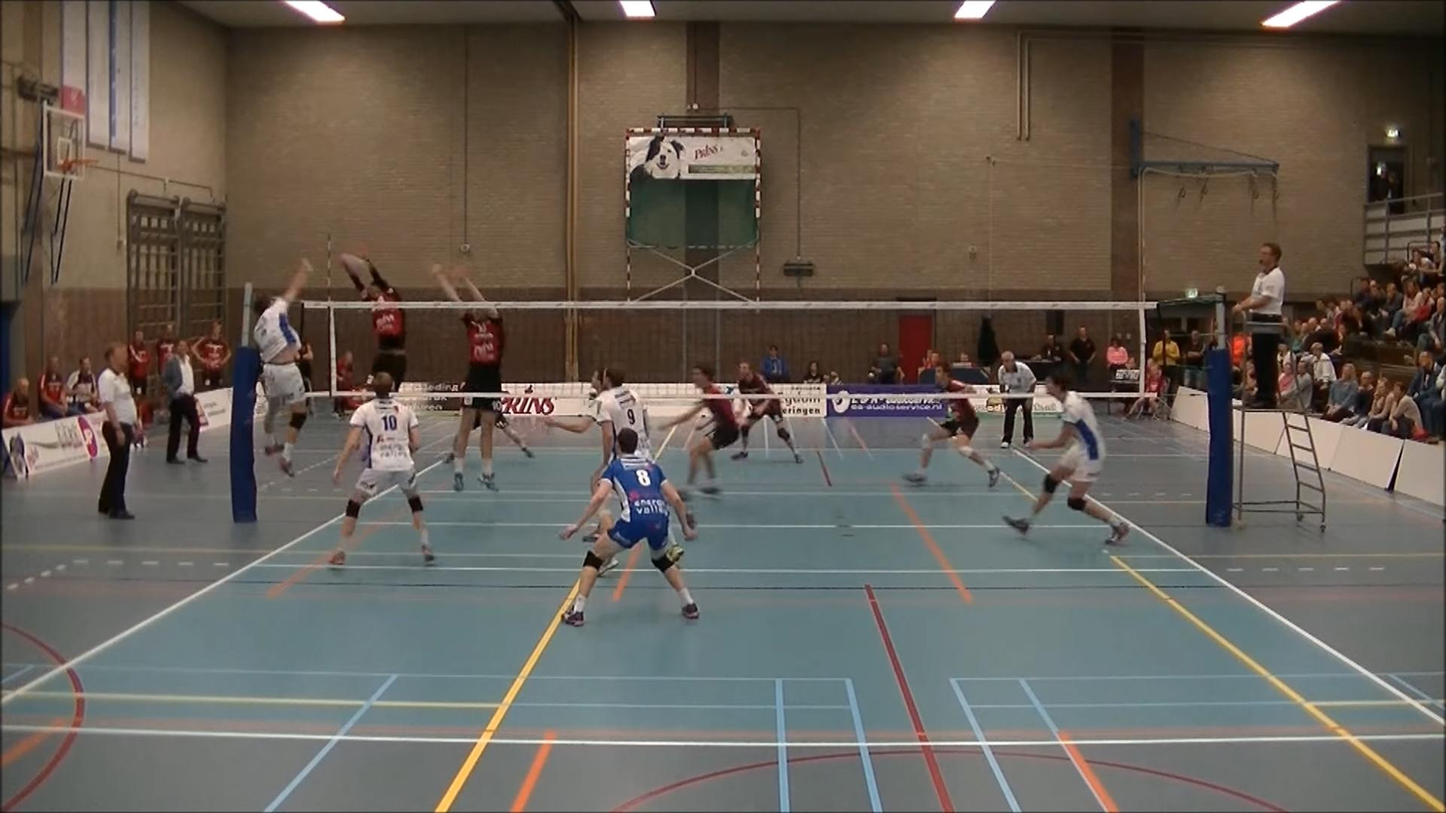Attack: (224, 252, 338, 489)
Block: (428, 249, 506, 497), (325, 239, 419, 397)
Player: (560, 428, 698, 626), (1005, 373, 1128, 544), (329, 373, 434, 566), (665, 364, 740, 495), (905, 397, 999, 487), (595, 367, 652, 477), (732, 397, 801, 462), (543, 370, 606, 434), (494, 409, 535, 457), (495, 409, 534, 457)
